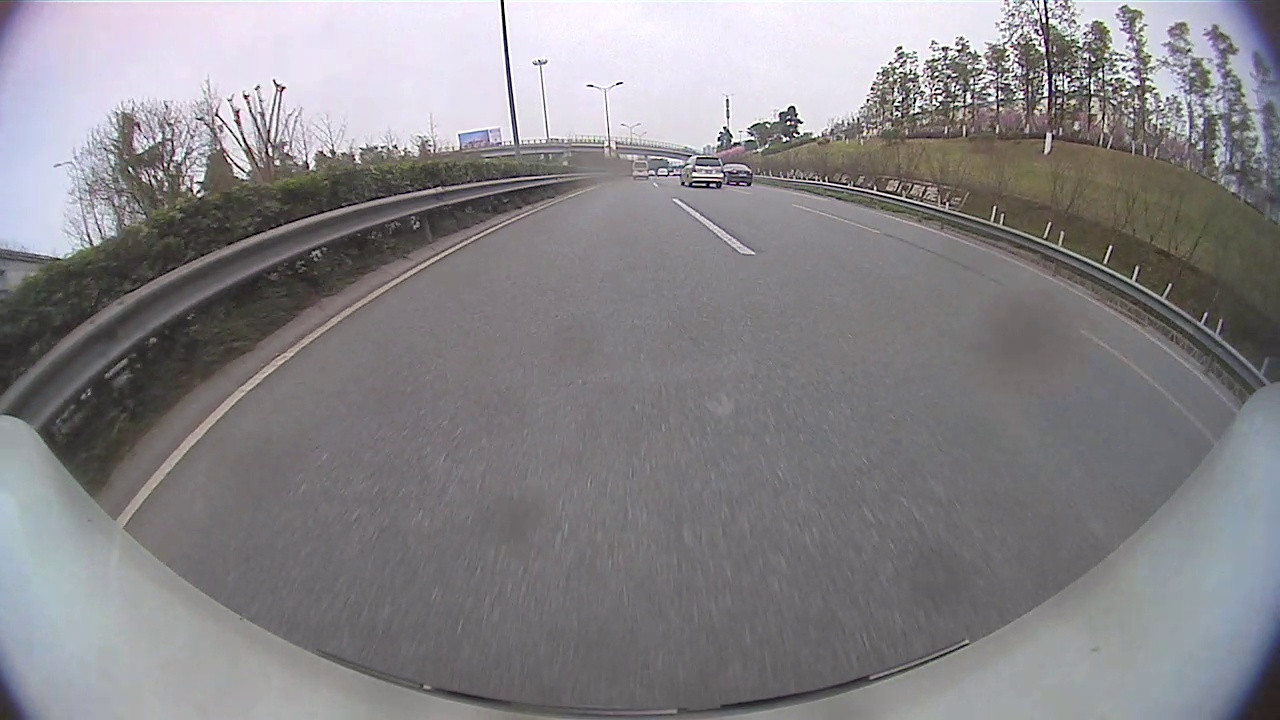car: (679, 155, 724, 188), (723, 162, 755, 187), (632, 159, 650, 179)
